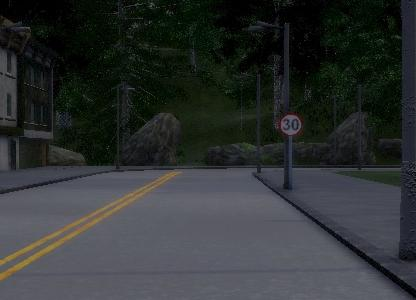Speed_30: (278, 112, 303, 136)
